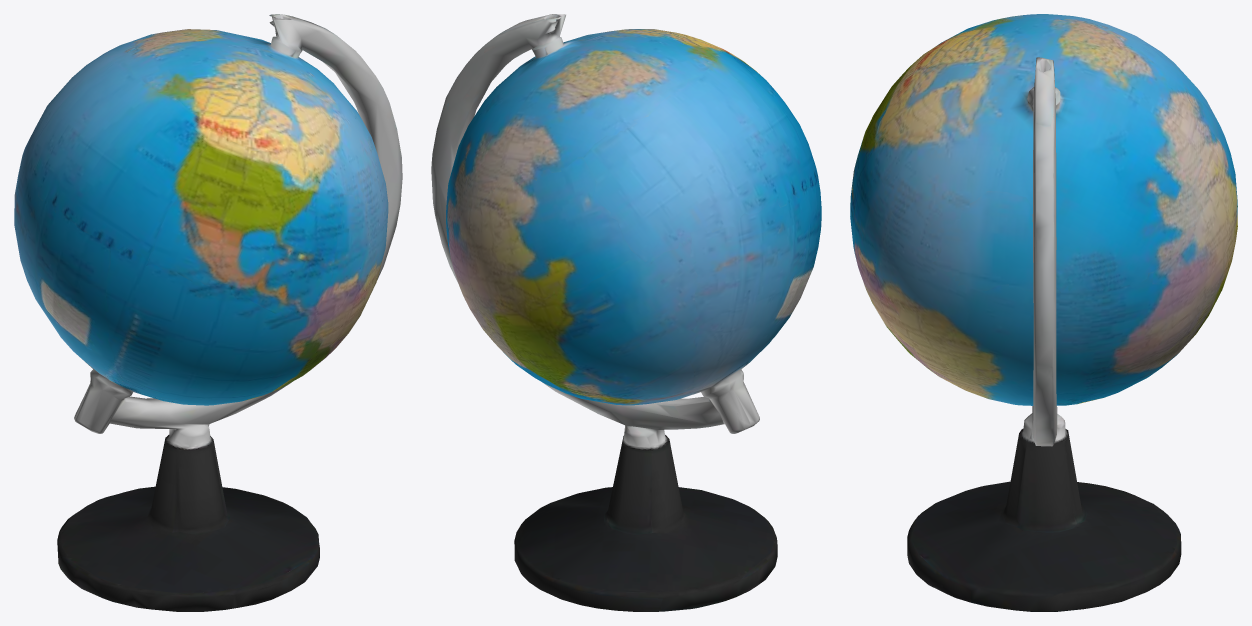
The model's file is lamp.glb.
3 views of the same model, side by side, from view 1: azimuth 30°, elevation 25°; view 2: azimuth 150°, elevation 25°; view 3: azimuth 270°, elevation 25° (orthographic). The views are drawn at different scales.
Visible parts, largest first — view 1: node_0; view 2: node_0; view 3: node_0.
Part boxes in pixels (left/top/right/bottom): node_0: left=14, top=14, right=402, bottom=611; node_0: left=431, top=14, right=821, bottom=611; node_0: left=850, top=14, right=1237, bottom=611.
Size of the model in its own units: 0.7523 by 1.04 by 0.6758.
Materials: 1 (1 with a texture image).
